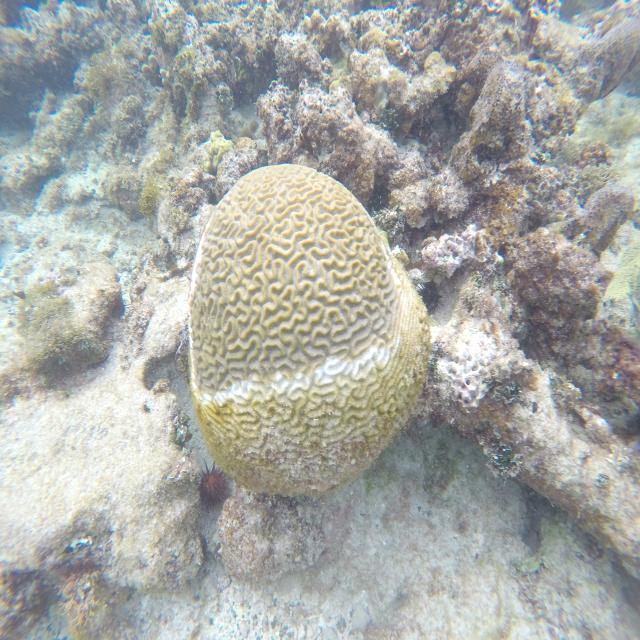Coral: (186, 163, 431, 497)
